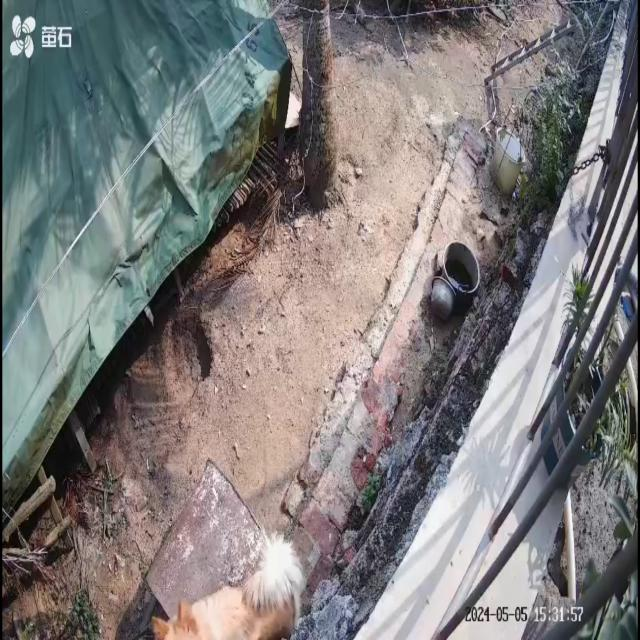dog: (152, 532, 305, 640)
